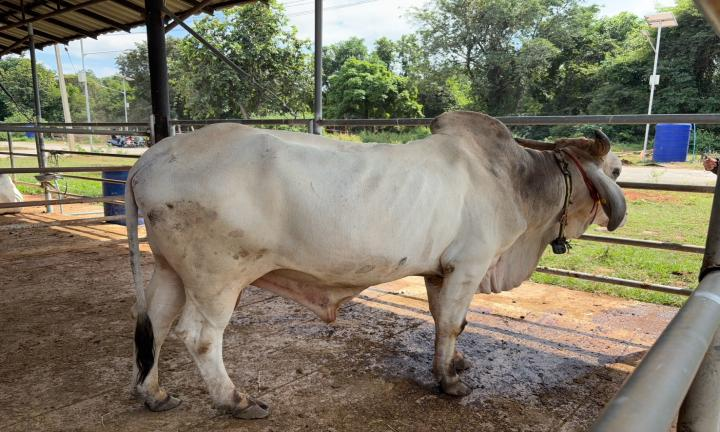Brahman: (125, 111, 626, 418)
